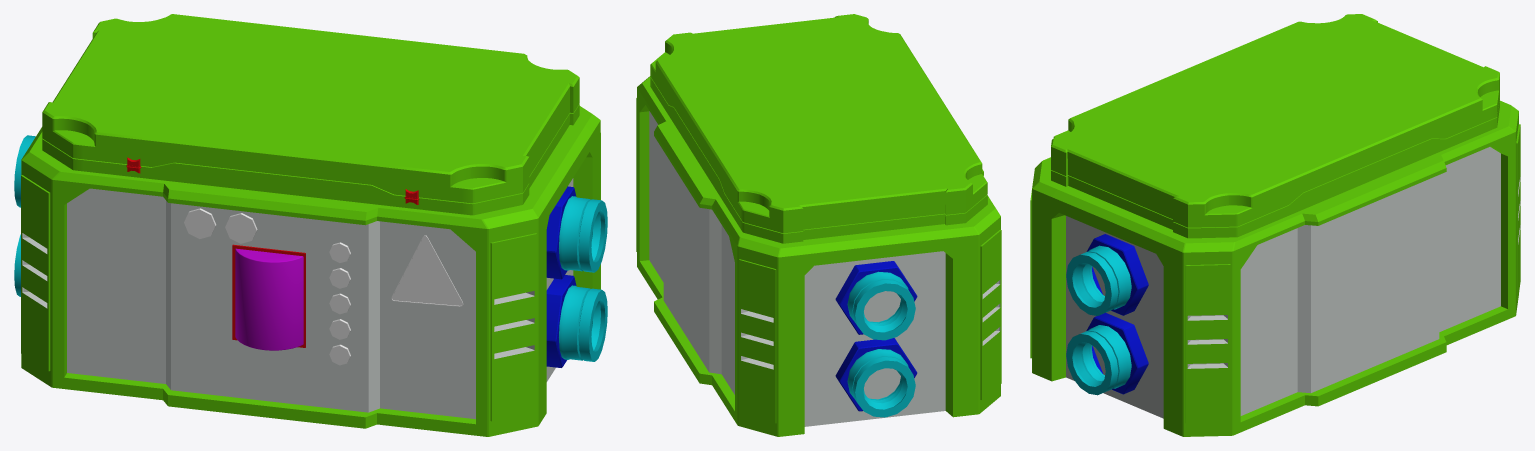
Rendered from repartiteur.fbx.
3 views of the same model, side by side, from view 1: azimuth 30°, elevation 25°; view 2: azimuth 150°, elevation 25°; view 3: azimuth 270°, elevation 25° (orthographic). The views are drawn at different scales.
Parts seen in each view (by area): view 1: repartiteur_vitre, sticker, Cylinder.005, Cylinder.006; view 2: repartiteur_vitre; view 3: repartiteur_vitre.
Part boxes in pixels (x1,y1,x2,y2): repartiteur_vitre: [14, 14, 607, 436]; sticker: [391, 235, 463, 306]; Cylinder.005: [329, 242, 350, 365]; Cylinder.006: [184, 208, 257, 243]; repartiteur_vitre: [636, 14, 1001, 436]; repartiteur_vitre: [1030, 14, 1520, 436].
Bounding box in the file's own units: 56.51 × 28.76 × 56.51.
